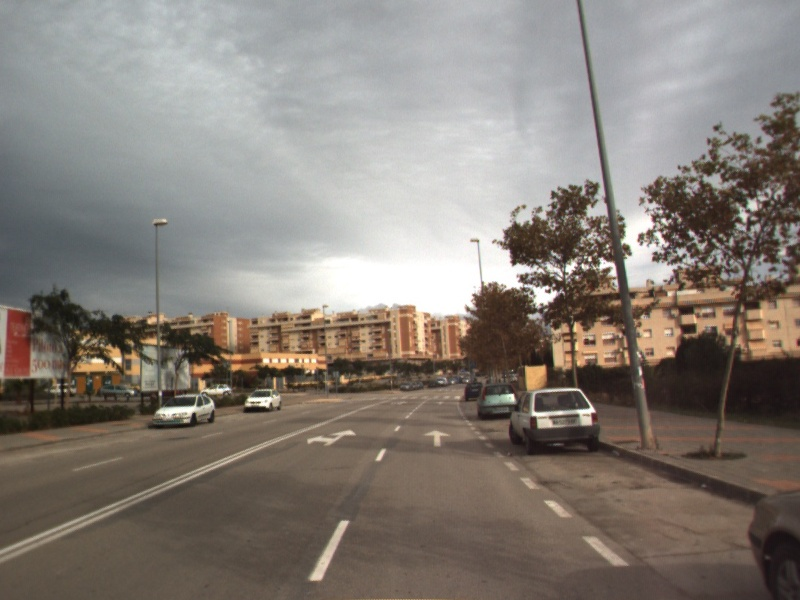STRAIGHT: (421, 427, 453, 449)
STRAIGHT_LEFT: (304, 427, 358, 448)
